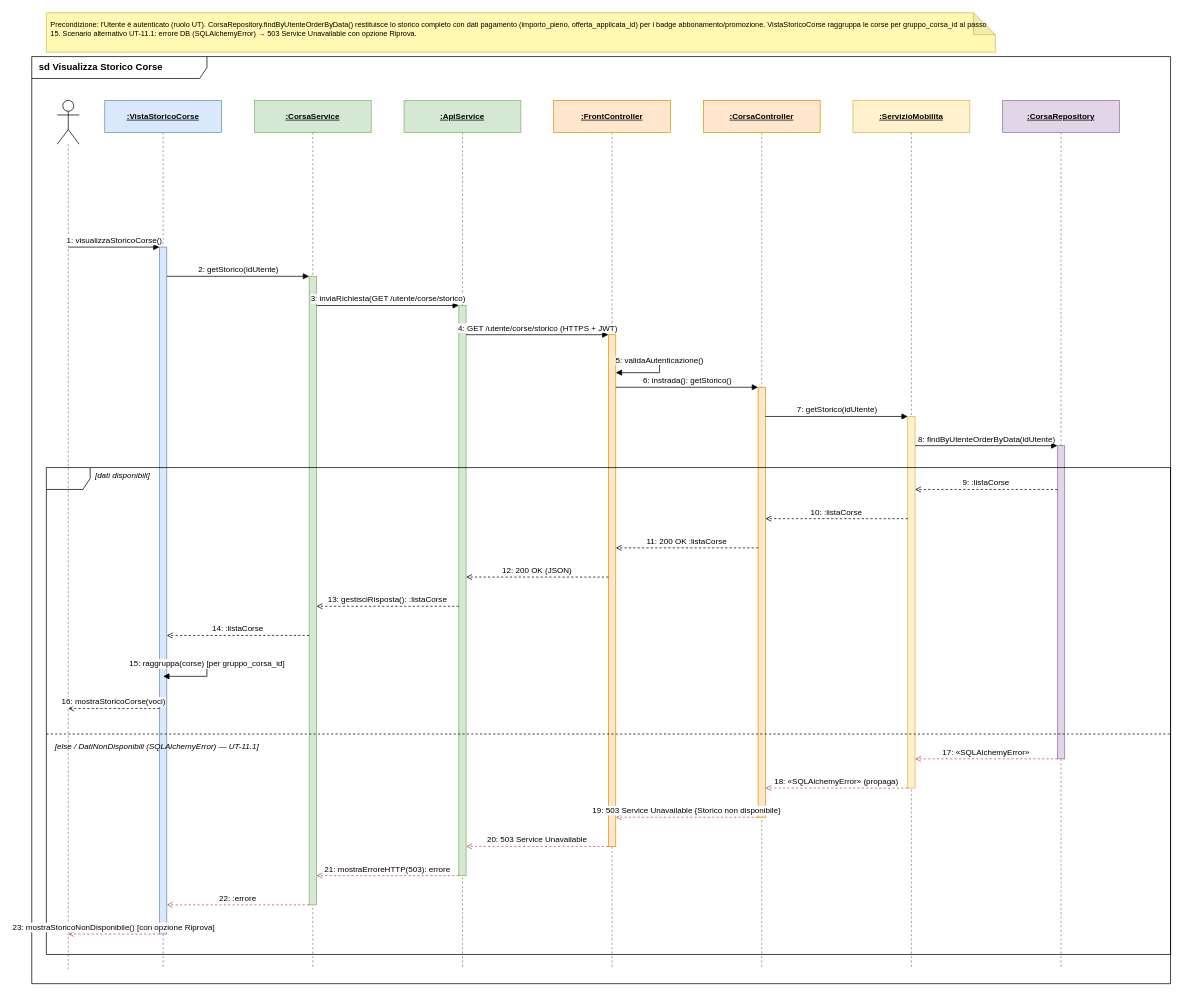
This 1184x996 diagram has some shape labels left out. Each missing label, with the box of its shape:
:Utente: (57, 100, 79, 144)
alt: (46, 467, 1171, 954)
